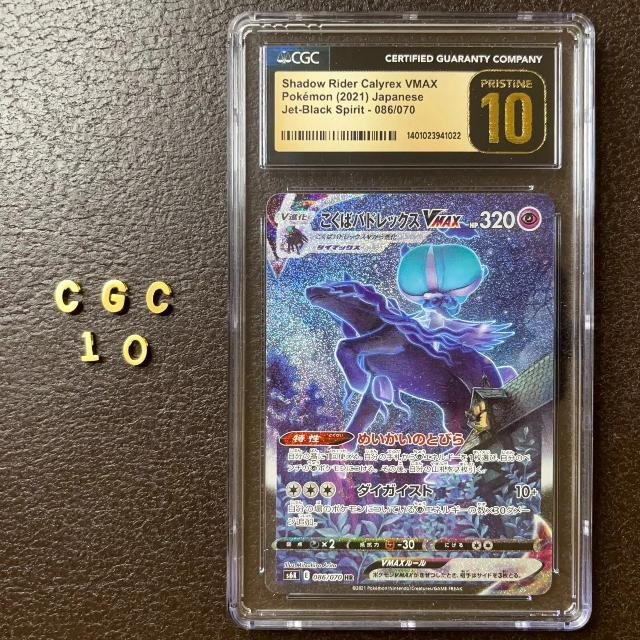card: (265, 192, 557, 595)
cgc_label: (262, 44, 554, 166)
cgc_slab: (227, 10, 595, 631)
